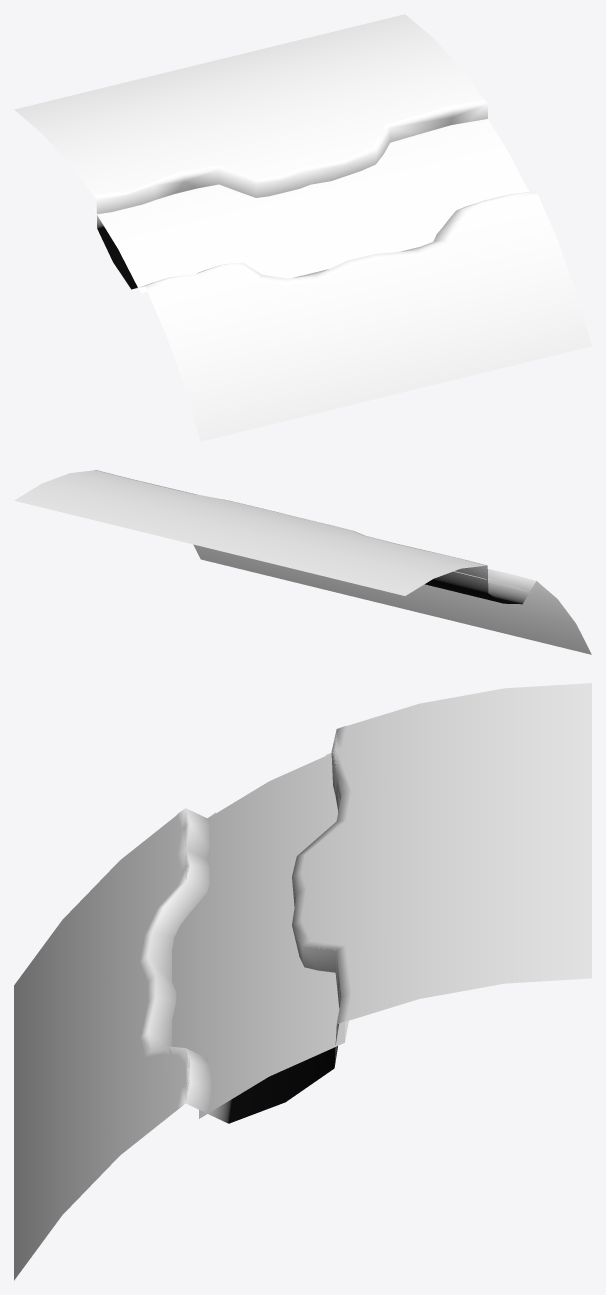
The model's file is grd_Rw_0.dae.
The picture shows the model from 3 angles, top to bottom: view 1: azimuth 30°, elevation 25°; view 2: azimuth 150°, elevation 25°; view 3: azimuth 270°, elevation 25°; orthographic projection. The views are drawn at different scales.
Visible parts, largest first — view 1: grd_Rw_0; view 2: grd_Rw_0; view 3: grd_Rw_0.
Part boxes in pixels (x1,y1,x2,y2): grd_Rw_0: (14,14,591,441); grd_Rw_0: (14,470,591,654); grd_Rw_0: (14,683,591,1280).
Size of the model in its own units: 512 by 244 by 423.
Materials: 4 (1 with a texture image).
